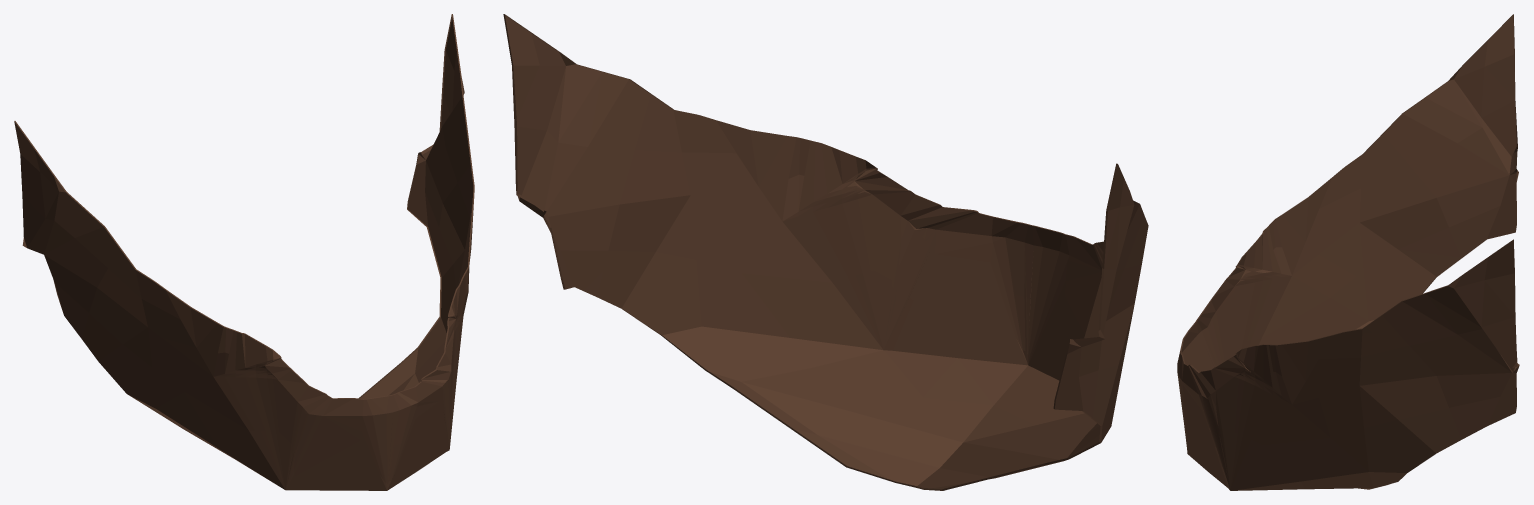
Rendered from curta_ajustada.glb.
3 views of the same model, side by side, from view 1: azimuth 30°, elevation 25°; view 2: azimuth 150°, elevation 25°; view 3: azimuth 270°, elevation 25° (orthographic). The views are drawn at different scales.
Parts seen in each view (by area): view 1: R28_nariz_baixo_4mm_curta_ajustada; view 2: R28_nariz_baixo_4mm_curta_ajustada; view 3: R28_nariz_baixo_4mm_curta_ajustada.
Part boxes in pixels (<box>): R28_nariz_baixo_4mm_curta_ajustada: <box>14,14,474,490</box>; R28_nariz_baixo_4mm_curta_ajustada: <box>503,14,1148,490</box>; R28_nariz_baixo_4mm_curta_ajustada: <box>1177,14,1519,490</box>.
Size of the model in its own units: 0.2132 by 0.1577 by 0.1365.
